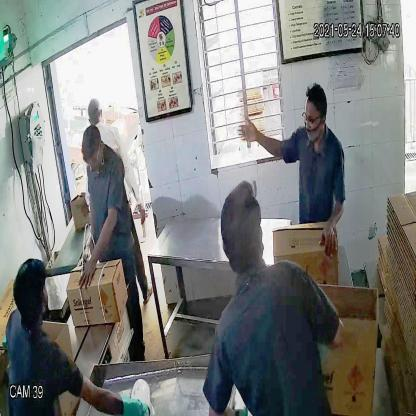goggles: (300, 107, 326, 128)
